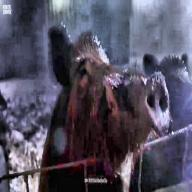boar: (40, 10, 174, 192)
